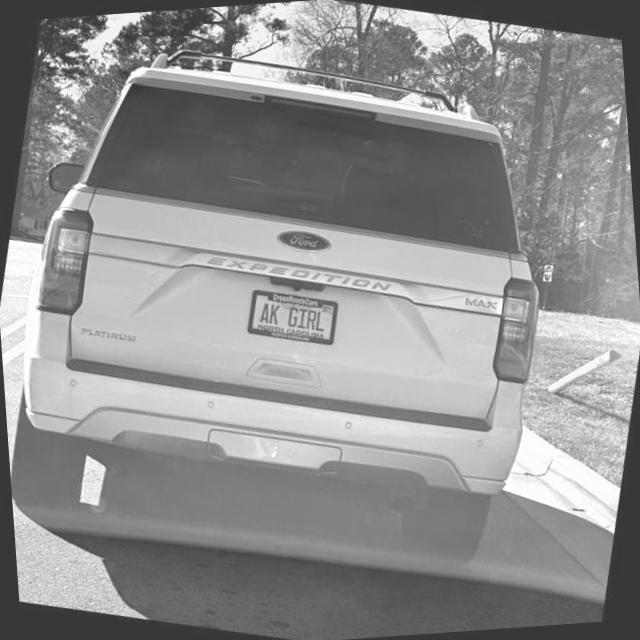LicensePlate: (244, 287, 338, 345)
